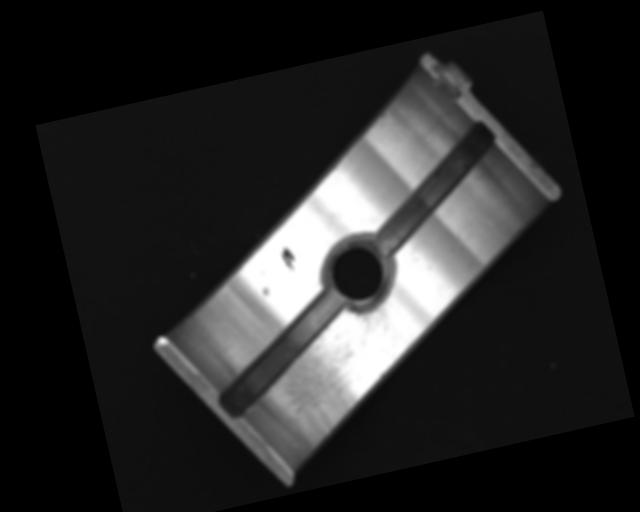blot: (279, 245, 298, 273)
bruise: (261, 286, 270, 297)
gap: (350, 119, 515, 258), (199, 291, 358, 420)
hole: (316, 230, 403, 315)
scratch: (260, 298, 417, 454)
